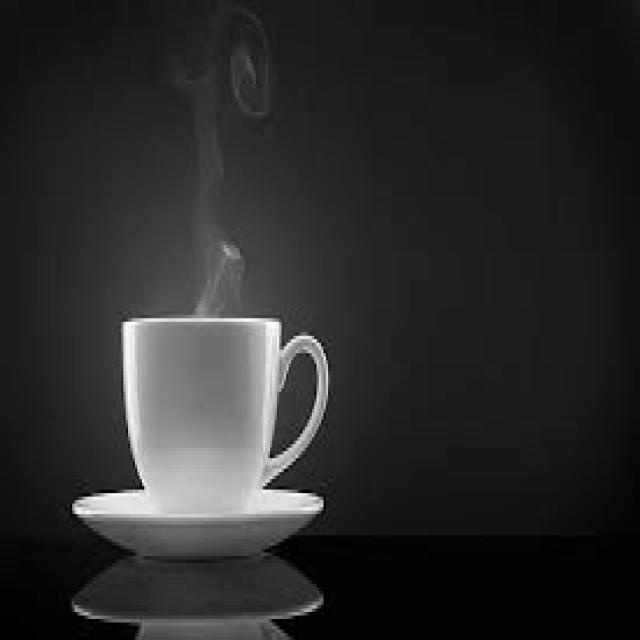taza: (83, 300, 344, 512)
